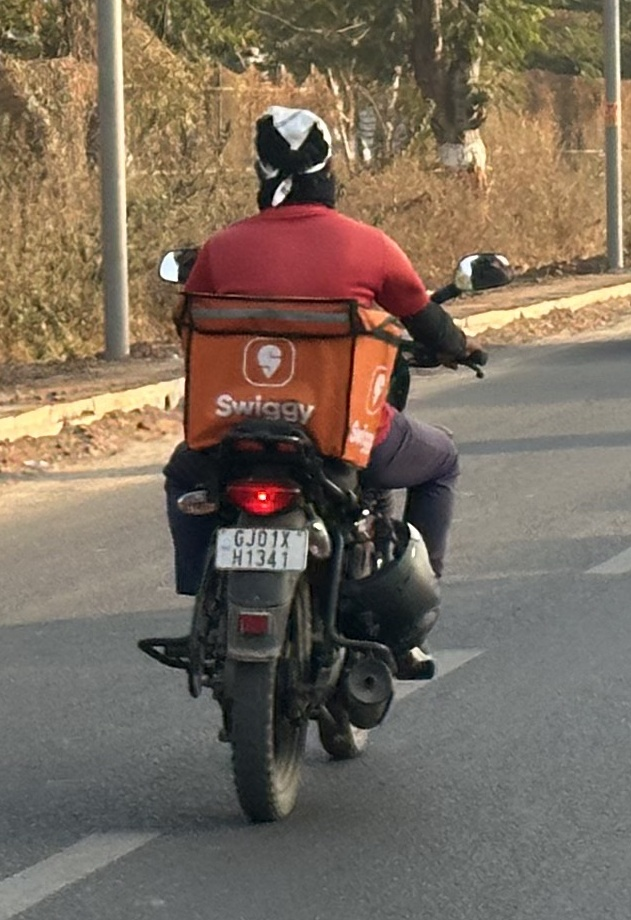BikeWithRider: (121, 95, 521, 836)
NoHelmet: (238, 98, 352, 218)
